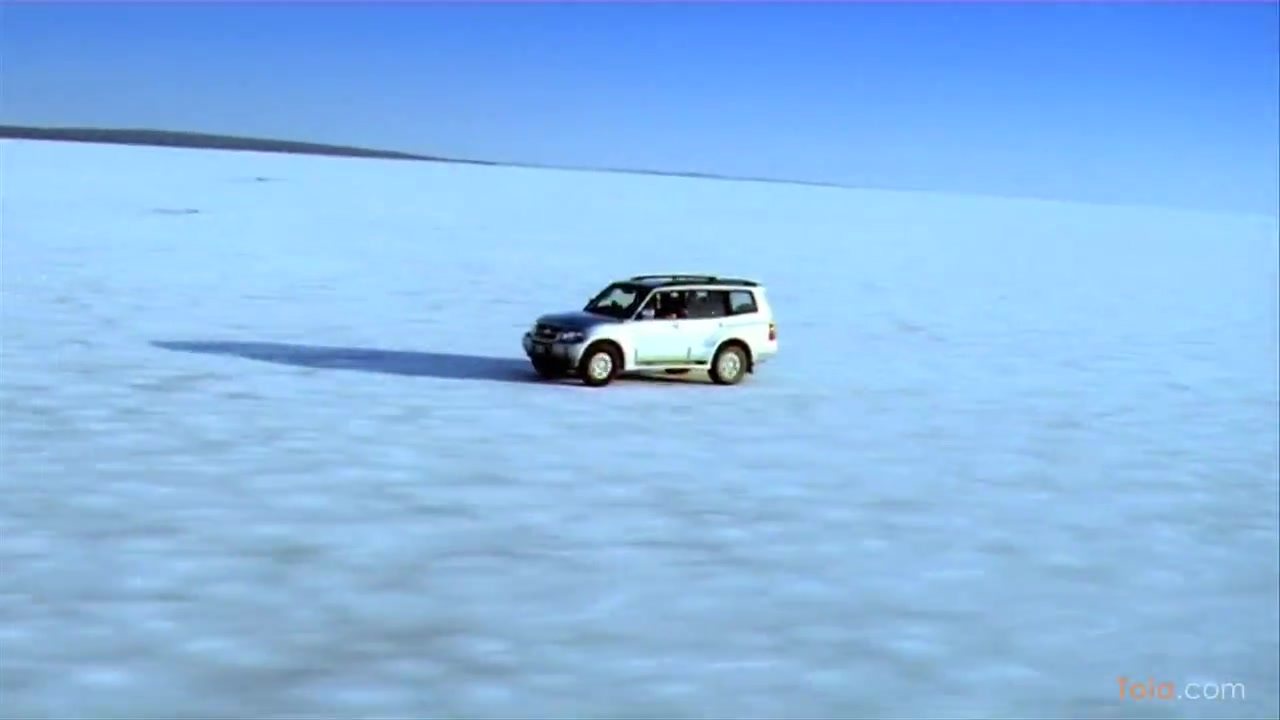car: (522, 273, 781, 397)
